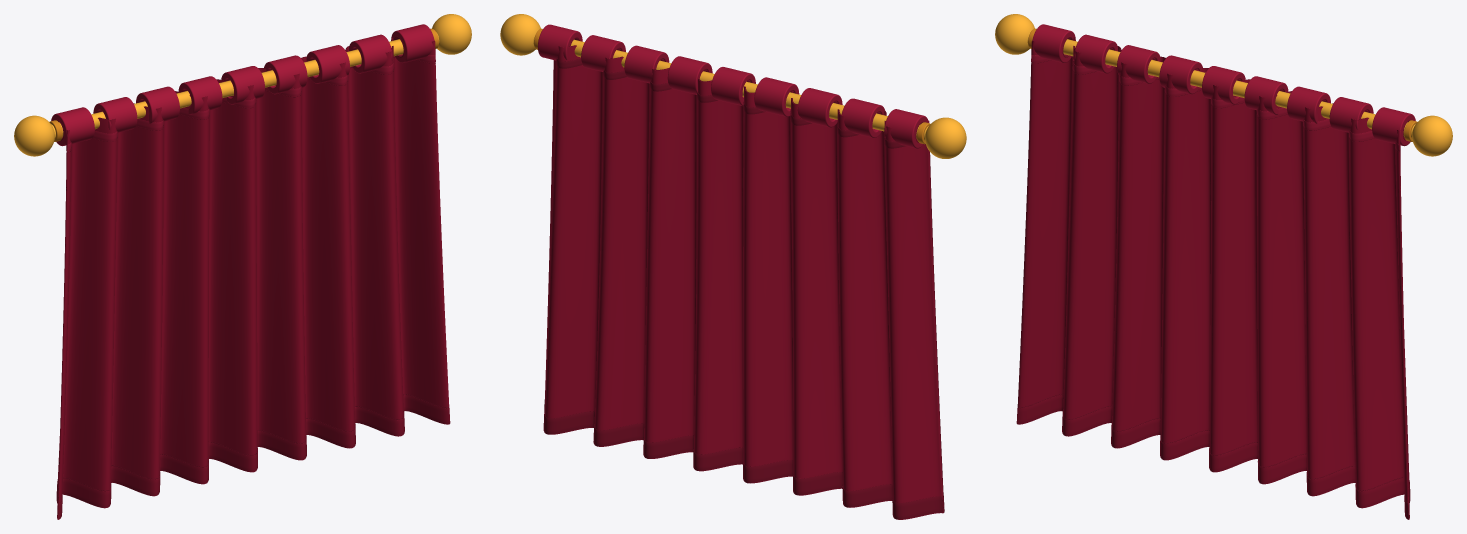
The model's file is StraightCurtain.glb.
The picture shows the model from 3 angles, left to right: view 1: azimuth 30°, elevation 25°; view 2: azimuth 150°, elevation 25°; view 3: azimuth 330°, elevation 25°; orthographic projection.
Visible parts, largest first — view 1: BurgundyPleatedFabric, FrontBottomHem, GoldCurtainRod, LeftGoldBallFinial, FrontHeaderBand, RightGoldBallFinial, FabricHangingLoop_8, FabricHangingLoop_9, FabricHangingLoop_1, FabricHangingLoop_7, FabricHangingLoop_6, FabricHangingLoop_5 (+3 smaller); view 2: BurgundyPleatedFabric, BackBottomHem, LeftGoldBallFinial, RightGoldBallFinial, BackHeaderBand, FabricHangingLoop_3, FabricHangingLoop_4, GoldCurtainRod, FabricHangingLoop_5, FabricHangingLoop_2, FabricHangingLoop_6, FabricHangingLoop_7 (+3 smaller); view 3: BurgundyPleatedFabric, FrontBottomHem, GoldCurtainRod, RightGoldBallFinial, FrontHeaderBand, LeftGoldBallFinial, FabricHangingLoop_2, FabricHangingLoop_1, FabricHangingLoop_9, FabricHangingLoop_3, FabricHangingLoop_4, FabricHangingLoop_5 (+3 smaller).
Part boxes in pixels (bbox=[...]): BurgundyPleatedFabric: bbox=[57, 37, 449, 519]; FrontBottomHem: bbox=[58, 395, 450, 519]; GoldCurtainRod: bbox=[59, 39, 403, 136]; LeftGoldBallFinial: bbox=[14, 115, 54, 156]; FrontHeaderBand: bbox=[67, 55, 435, 151]; RightGoldBallFinial: bbox=[432, 14, 471, 54]; FabricHangingLoop_8: bbox=[349, 34, 392, 73]; FabricHangingLoop_9: bbox=[391, 24, 434, 62]; FabricHangingLoop_1: bbox=[51, 107, 94, 146]; FabricHangingLoop_7: bbox=[306, 45, 349, 83]; FabricHangingLoop_6: bbox=[264, 55, 307, 94]; FabricHangingLoop_5: bbox=[221, 66, 264, 104]; BurgundyPleatedFabric: bbox=[544, 45, 944, 519]; BackBottomHem: bbox=[543, 399, 943, 519]; LeftGoldBallFinial: bbox=[925, 117, 966, 158]; RightGoldBallFinial: bbox=[500, 14, 540, 55]; BackHeaderBand: bbox=[556, 58, 905, 148]; FabricHangingLoop_3: bbox=[797, 88, 842, 127]; FabricHangingLoop_4: bbox=[754, 77, 799, 116]; GoldCurtainRod: bbox=[571, 39, 920, 138]; FabricHangingLoop_5: bbox=[711, 67, 755, 106]; FabricHangingLoop_2: bbox=[841, 98, 885, 137]; FabricHangingLoop_6: bbox=[667, 56, 712, 94]; FabricHangingLoop_7: bbox=[624, 45, 669, 83]; BurgundyPleatedFabric: bbox=[1017, 37, 1409, 519]; FrontBottomHem: bbox=[1016, 395, 1408, 519]; GoldCurtainRod: bbox=[1063, 39, 1407, 136]; RightGoldBallFinial: bbox=[1412, 115, 1452, 156]; FrontHeaderBand: bbox=[1031, 55, 1399, 151]; LeftGoldBallFinial: bbox=[995, 14, 1034, 54]; FabricHangingLoop_2: bbox=[1074, 34, 1117, 73]; FabricHangingLoop_1: bbox=[1032, 24, 1075, 62]; FabricHangingLoop_9: bbox=[1372, 107, 1415, 146]; FabricHangingLoop_3: bbox=[1117, 45, 1160, 83]; FabricHangingLoop_4: bbox=[1159, 55, 1202, 94]; FabricHangingLoop_5: bbox=[1202, 66, 1245, 104].
Bounding box in the file's own units: 2.71 × 2.28 × 0.2361.
Materials: 7 (7 with a texture image).
